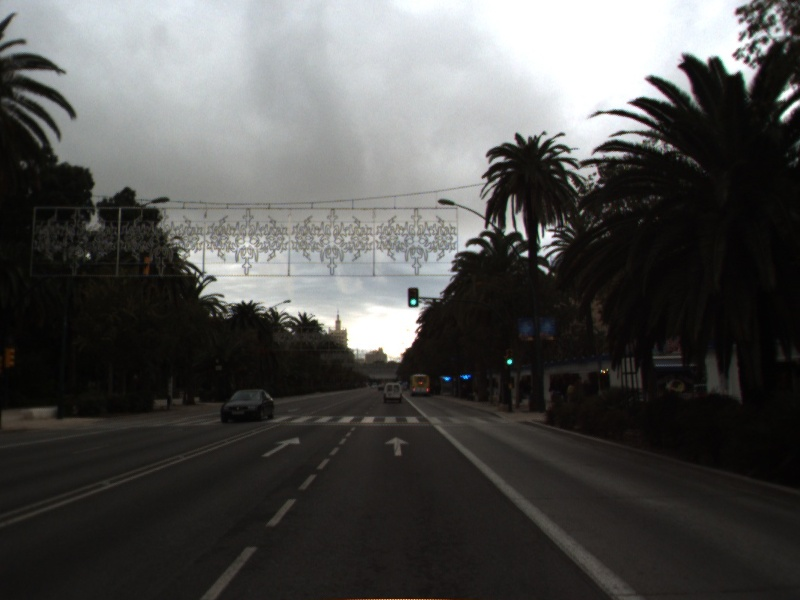STRAIGHT: (259, 435, 302, 459), (383, 435, 411, 457)
